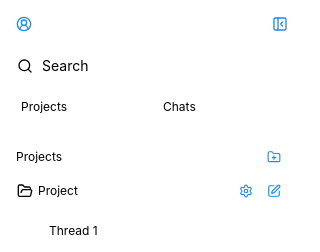
WorkspaceSidebar project reorder › collapses and expands the Projects section from the section row
Expected: the text "Project" is shown, [38,183,78,199]
What coordinates should you click on to do the following:
click the button with aria-label "Collapse Projects section"
I would click on:
 (136, 157)
Its box is [16,143,256,171].
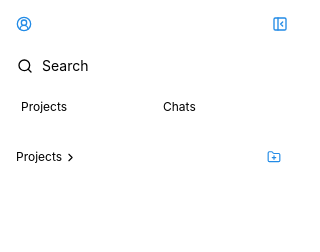
What coordinates should you click on to do the following:
click the button with aria-label "Expand Projects section"
I would click on:
 (136, 157)
Its box is [16,143,256,171].
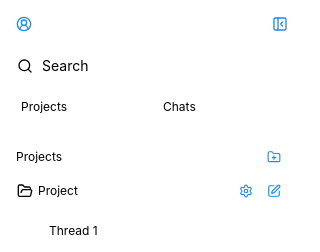
Expected: the text "Project" is shown, [38,183,78,199]
